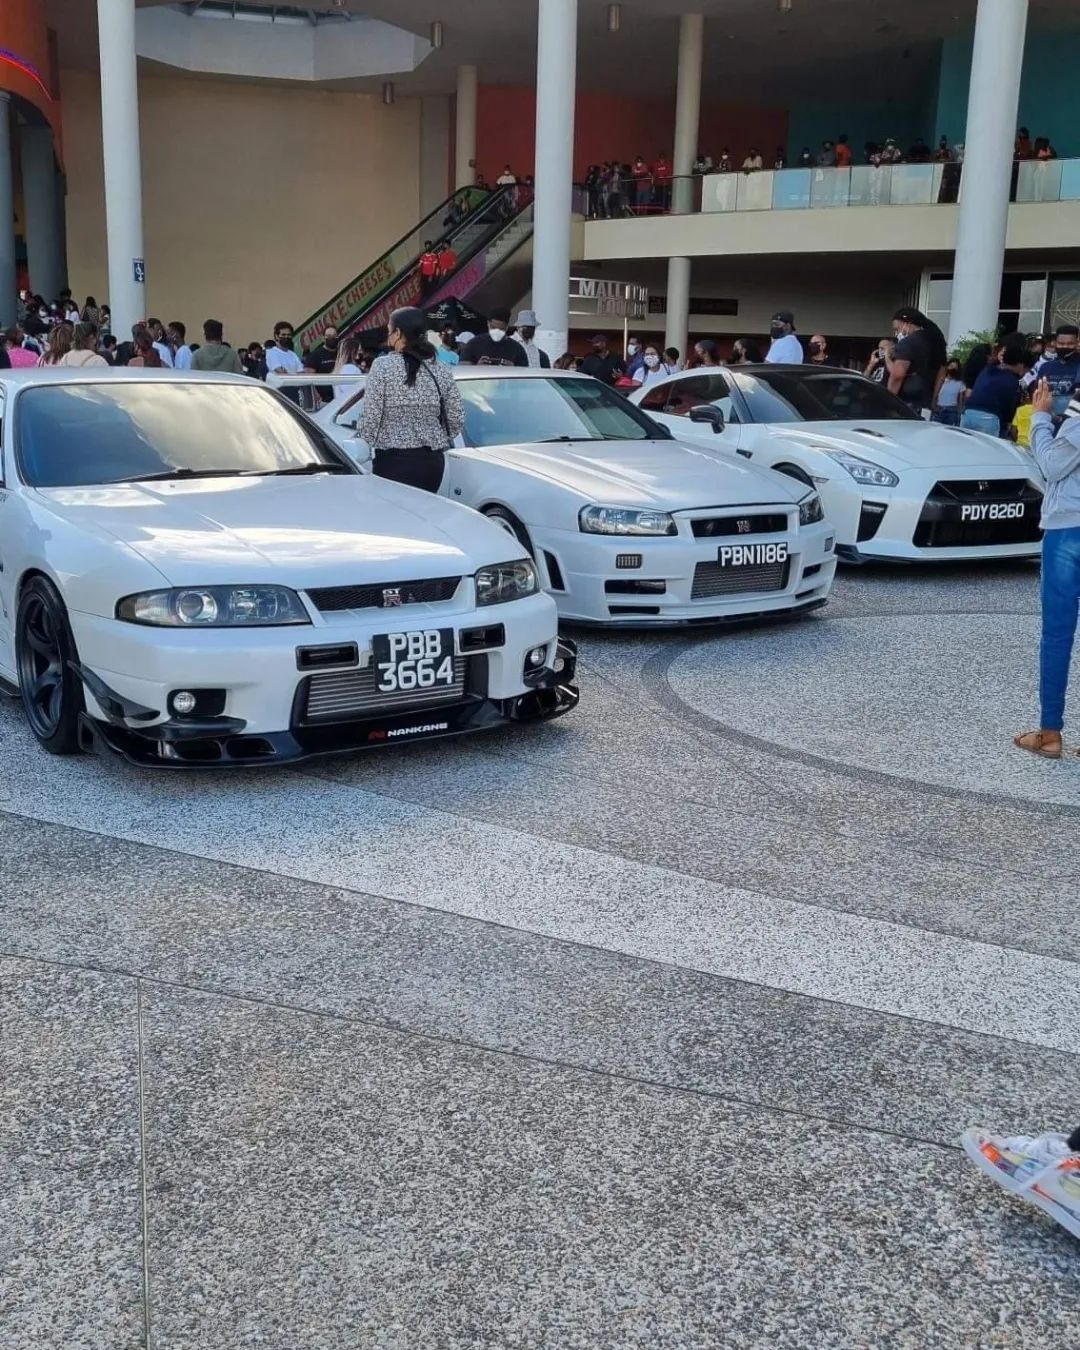License-Plate: (370, 635, 451, 694), (717, 545, 786, 568), (959, 503, 1024, 521)
